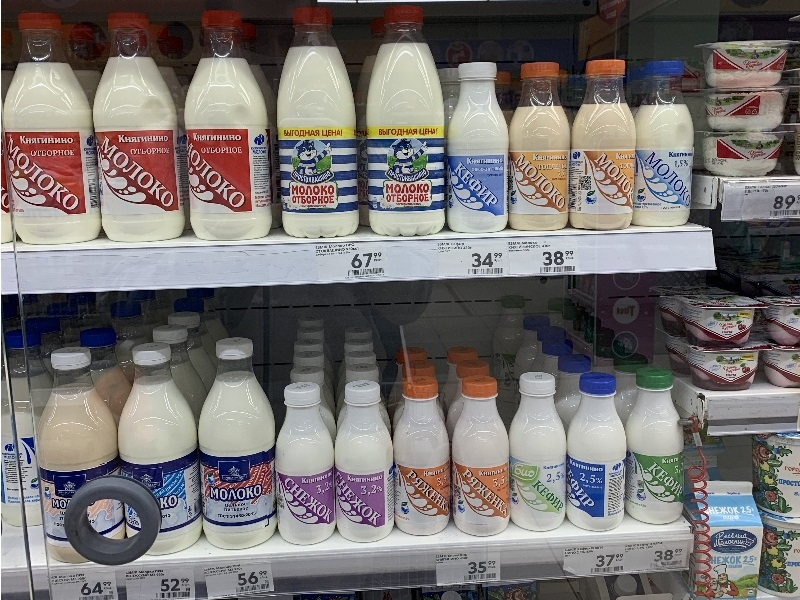milk: (172, 9, 284, 253), (83, 10, 194, 249), (1, 8, 109, 253), (260, 5, 369, 243), (367, 9, 450, 247), (196, 336, 284, 557), (563, 56, 640, 240), (510, 59, 575, 237), (632, 56, 696, 234)
